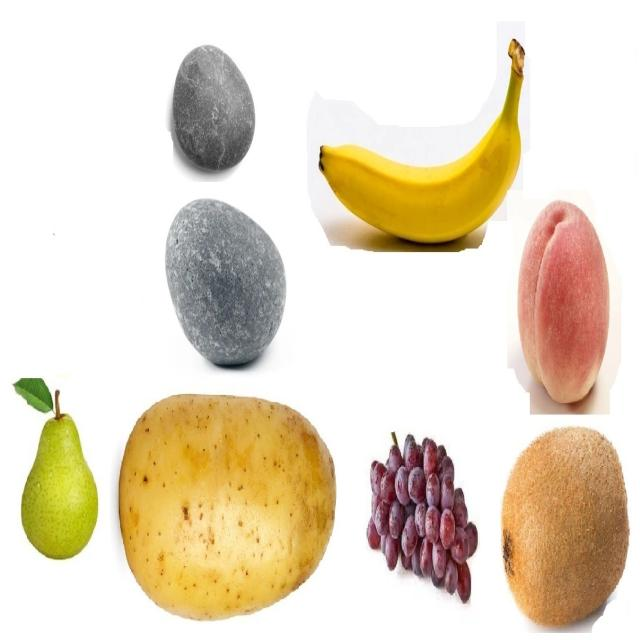potato: (118, 394, 337, 616)
